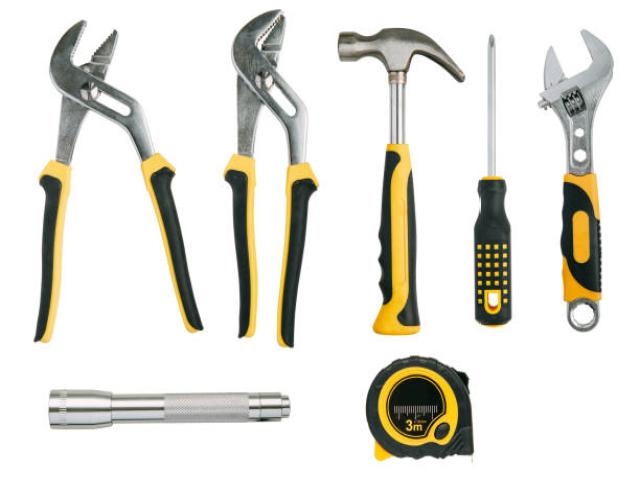Adjustable spanner: (539, 30, 614, 331)
Gas wrench: (35, 20, 202, 341), (225, 11, 318, 346)
Hammer: (338, 28, 465, 335)
Screwdriver: (474, 35, 511, 325)
Tape measure: (366, 356, 472, 459)
